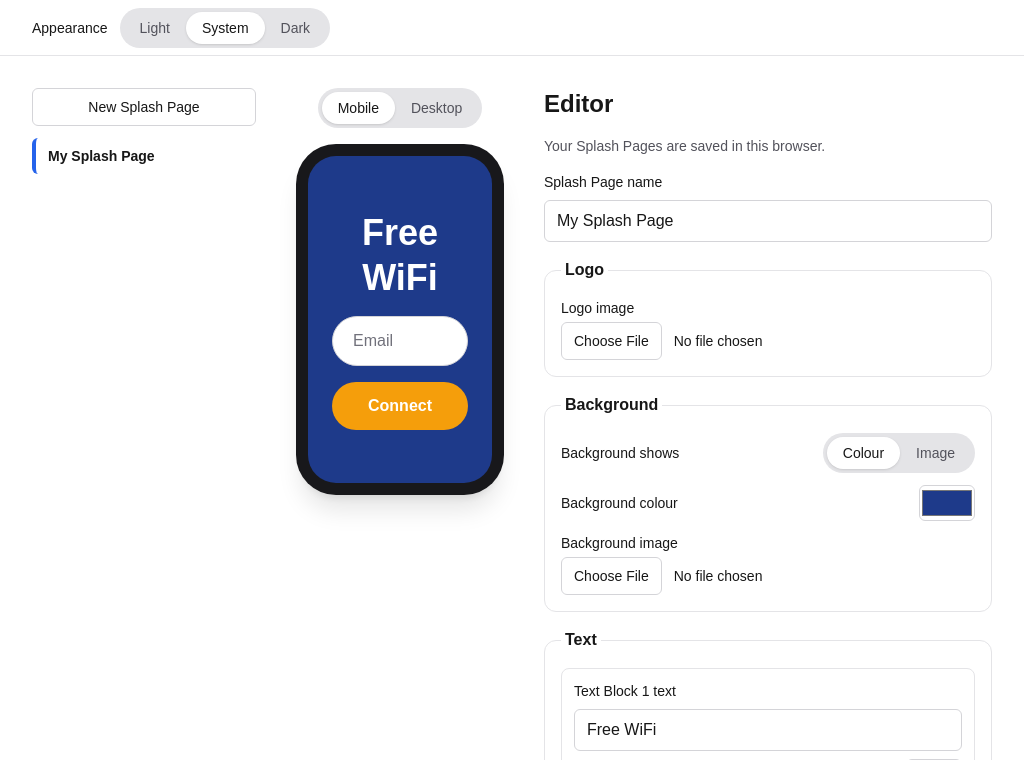
Captivator: Reset to starter › Reset returns only the Open Splash Page to the Starter Splash Page
Replace the text in the field labelled "Text Block 1 text" with "Welcome to the Café" at {"x": 768, "y": 730}, box [574,709,962,751]
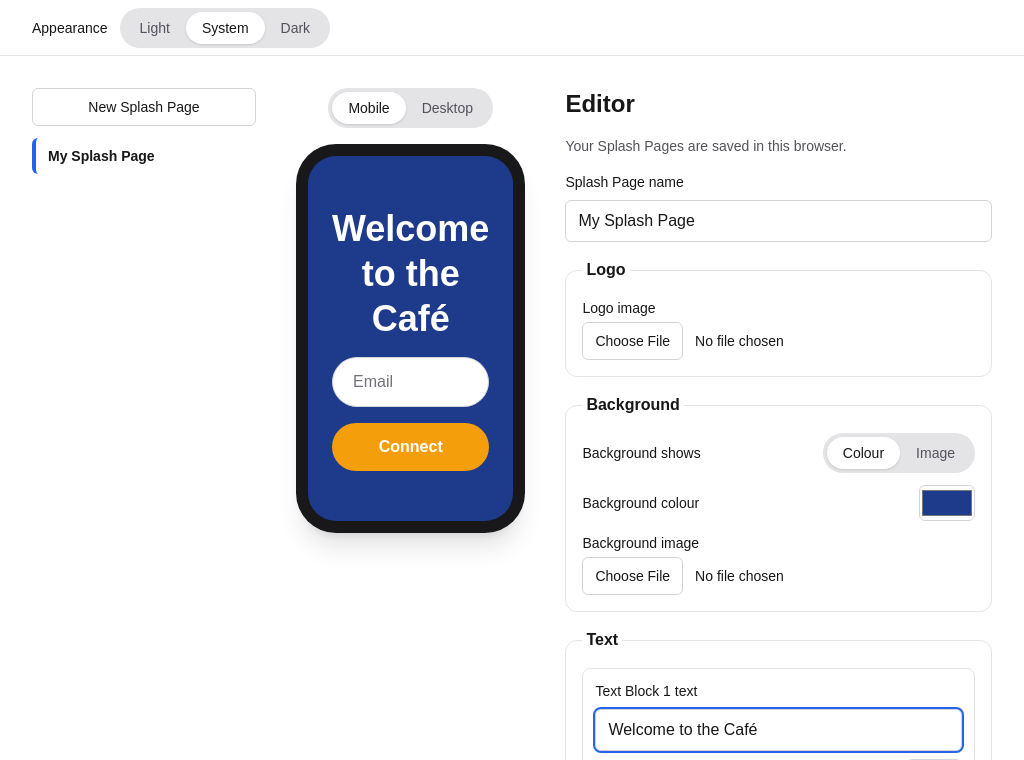
Click the button "New Splash Page".
click(144, 107)  # box [32,88,256,126]
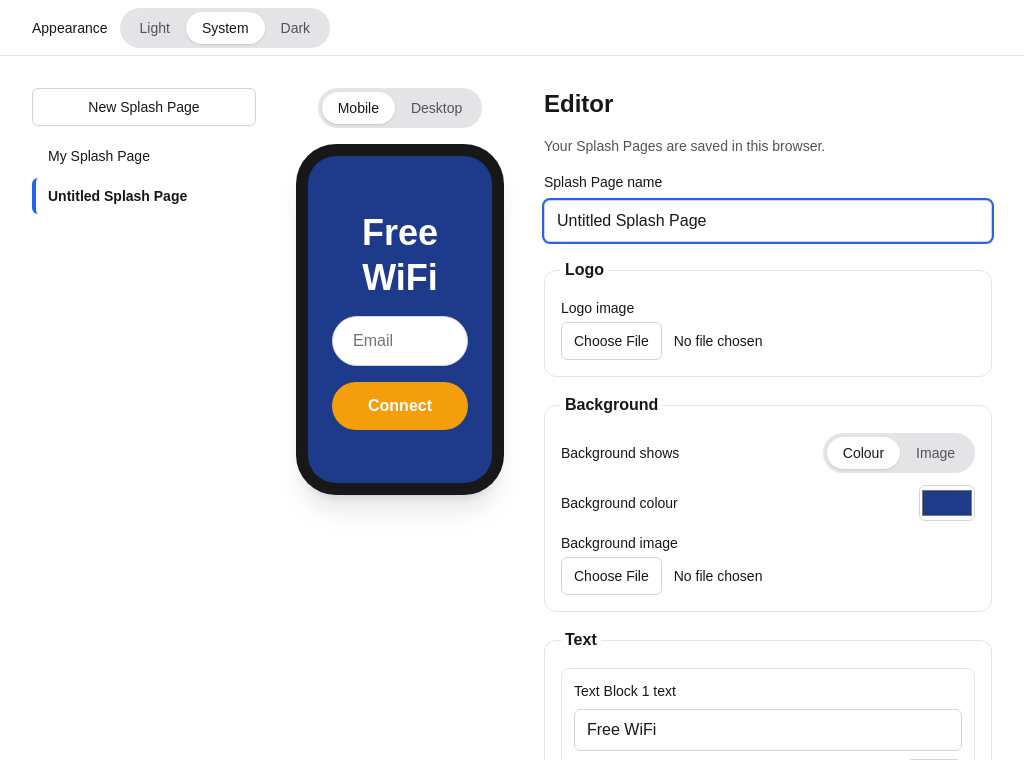
Replace the text in the field labelled "Text Block 1 text" with "Happy hour" at {"x": 768, "y": 730}, box [574,709,962,751]
(page scrolled)
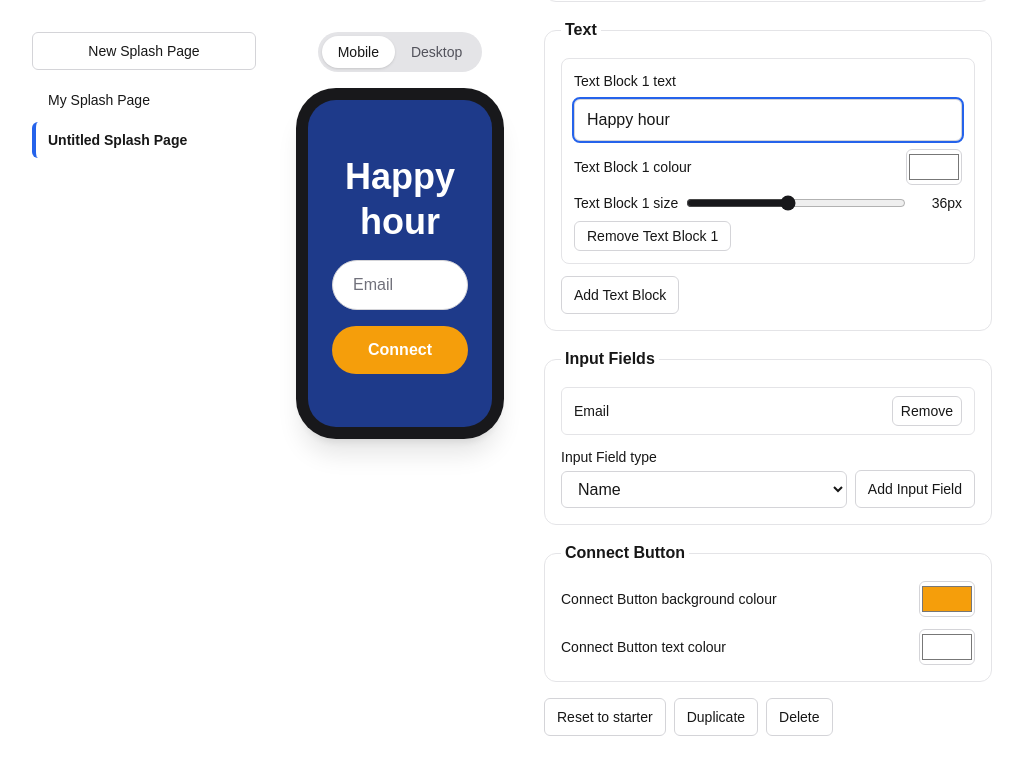
Click the button "Reset to starter".
click(605, 717)  # box [544,698,666,736]
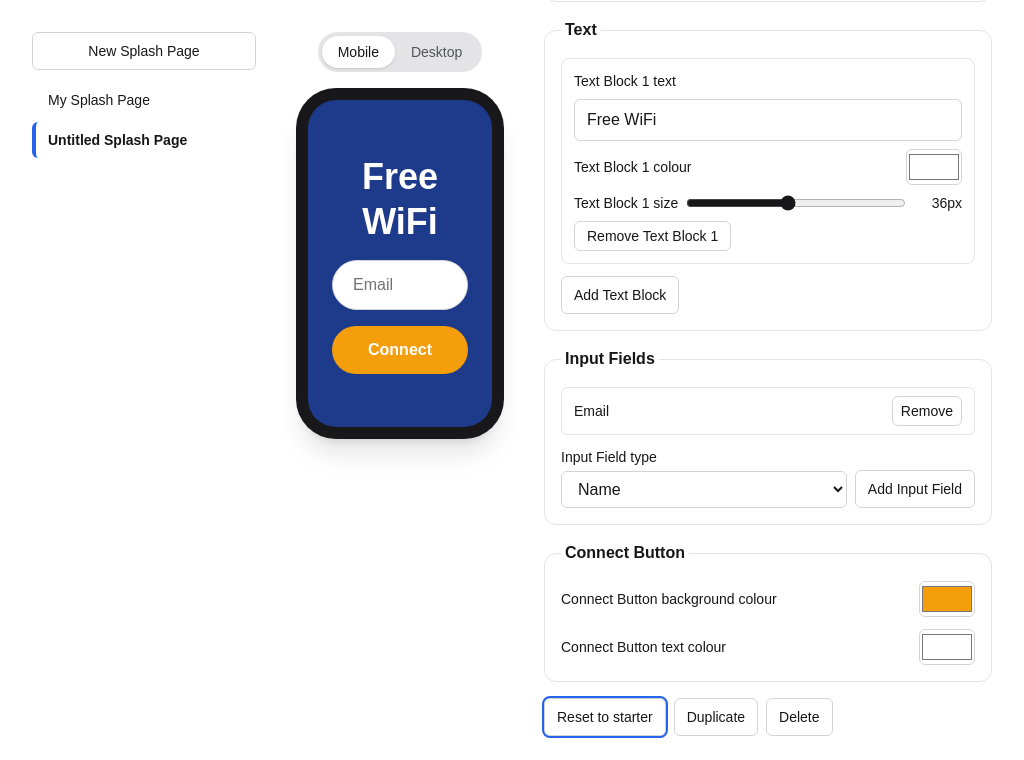
Result: the text "Free WiFi" is shown at [362,156,438,242]
Click the button "My Splash Page".
click(144, 100)  # box [32,82,256,118]
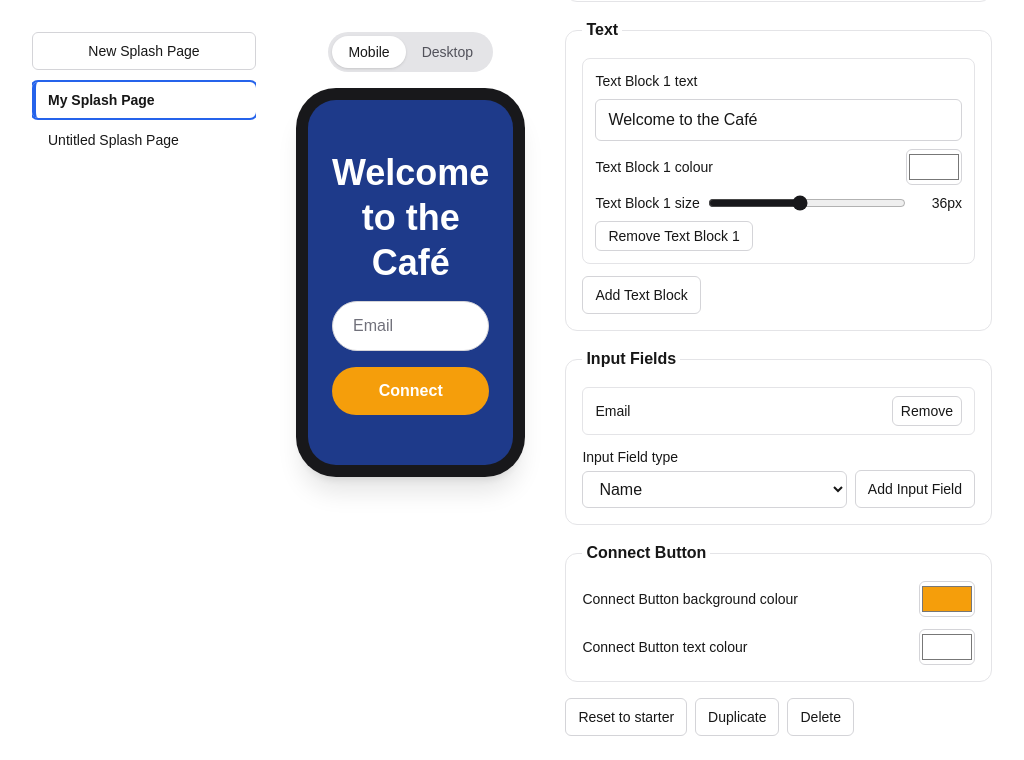
Result: the text "Welcome to the Café" is shown at [332,150,489,285]
